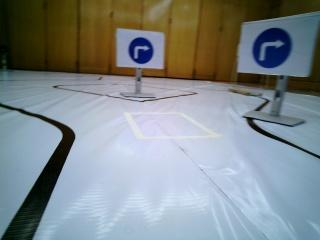right: (242, 23, 316, 74), (121, 30, 161, 69)
